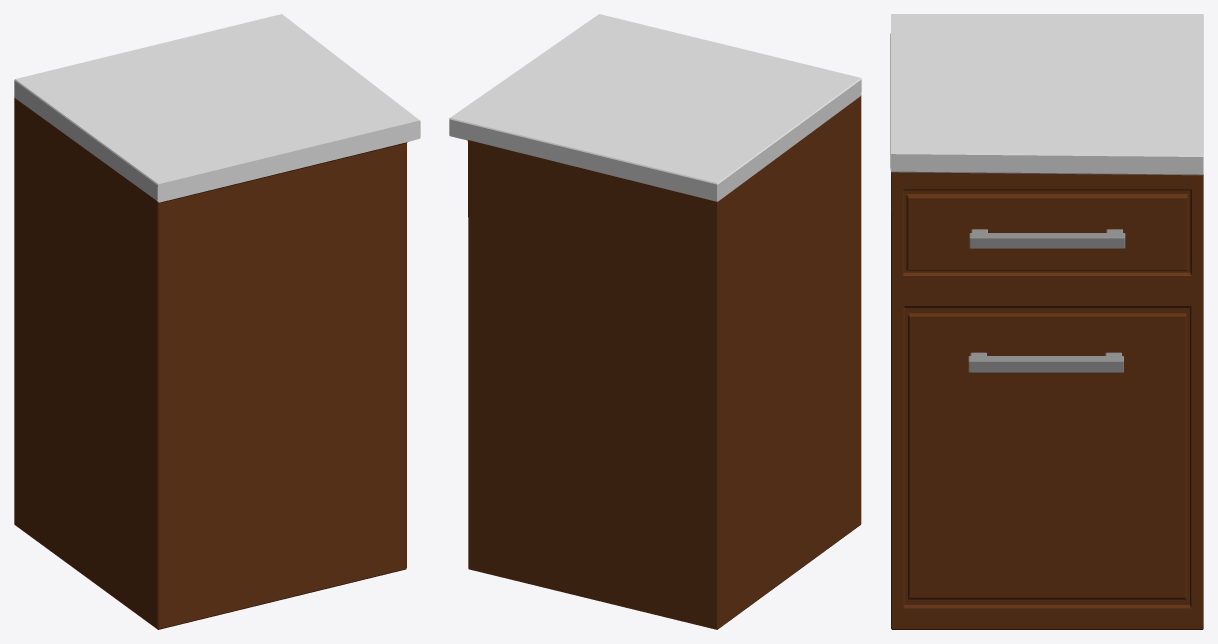
Rendered from Cabinet2.fbx.
3 views of the same model, side by side, from view 1: azimuth 30°, elevation 25°; view 2: azimuth 150°, elevation 25°; view 3: azimuth 270°, elevation 25° (orthographic). The views are drawn at different scales.
Visible parts, largest first — view 1: Fridge.005; view 2: Fridge.005; view 3: Fridge.005.
Part boxes in pixels (x1,y1,x2,y2): Fridge.005: [14, 14, 420, 629]; Fridge.005: [449, 14, 861, 629]; Fridge.005: [890, 14, 1203, 629].
Size of the model in its own units: 151 by 242 by 140.
